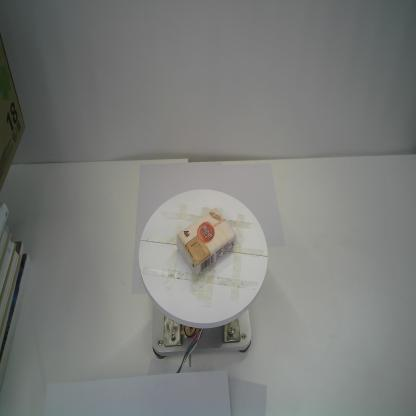Tissue: (176, 206, 236, 277)
